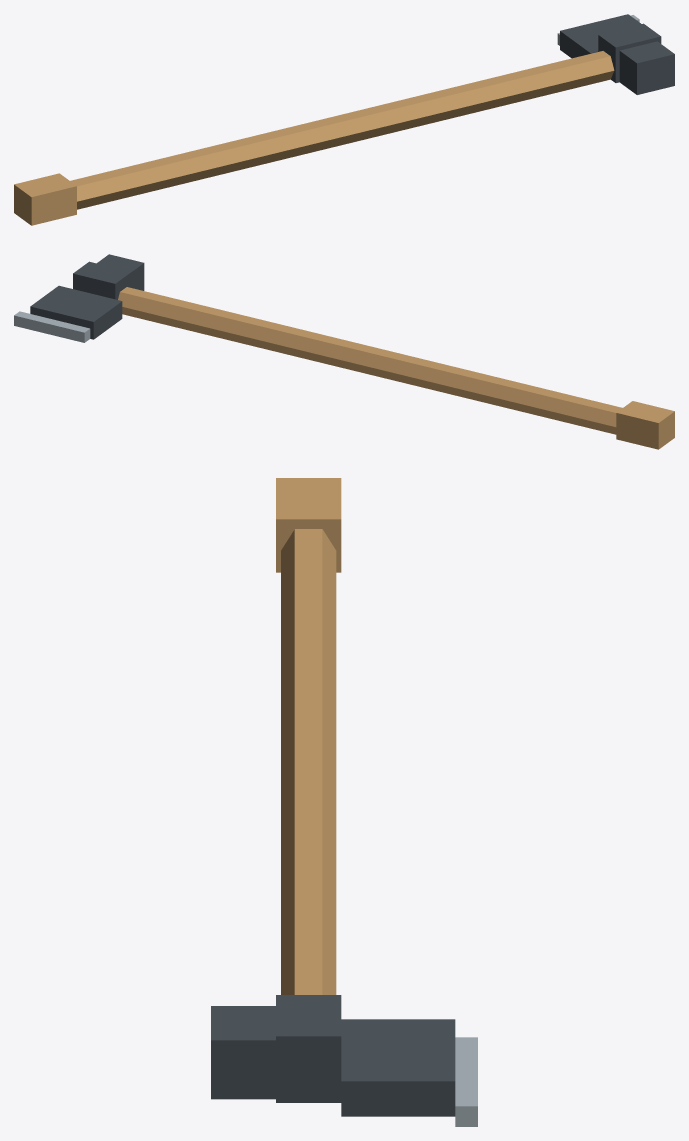
Rendered from GT_Axe_01.glb.
3 renders of one model, top to bottom at view 1: azimuth 30°, elevation 25°; view 2: azimuth 150°, elevation 25°; view 3: azimuth 270°, elevation 25°, orthographic. The views are drawn at different scales.
Parts seen in each view (by area): view 1: GT_Axe_01; view 2: GT_Axe_01; view 3: GT_Axe_01.
Part boxes in pixels (x1,y1,x2,y2): GT_Axe_01: (14,14,674,225); GT_Axe_01: (14,254,674,449); GT_Axe_01: (211,478,477,1126).
Bounding box in the file's own units: 0.865 × 0.045 × 0.164.
1 material, 1 textured.
